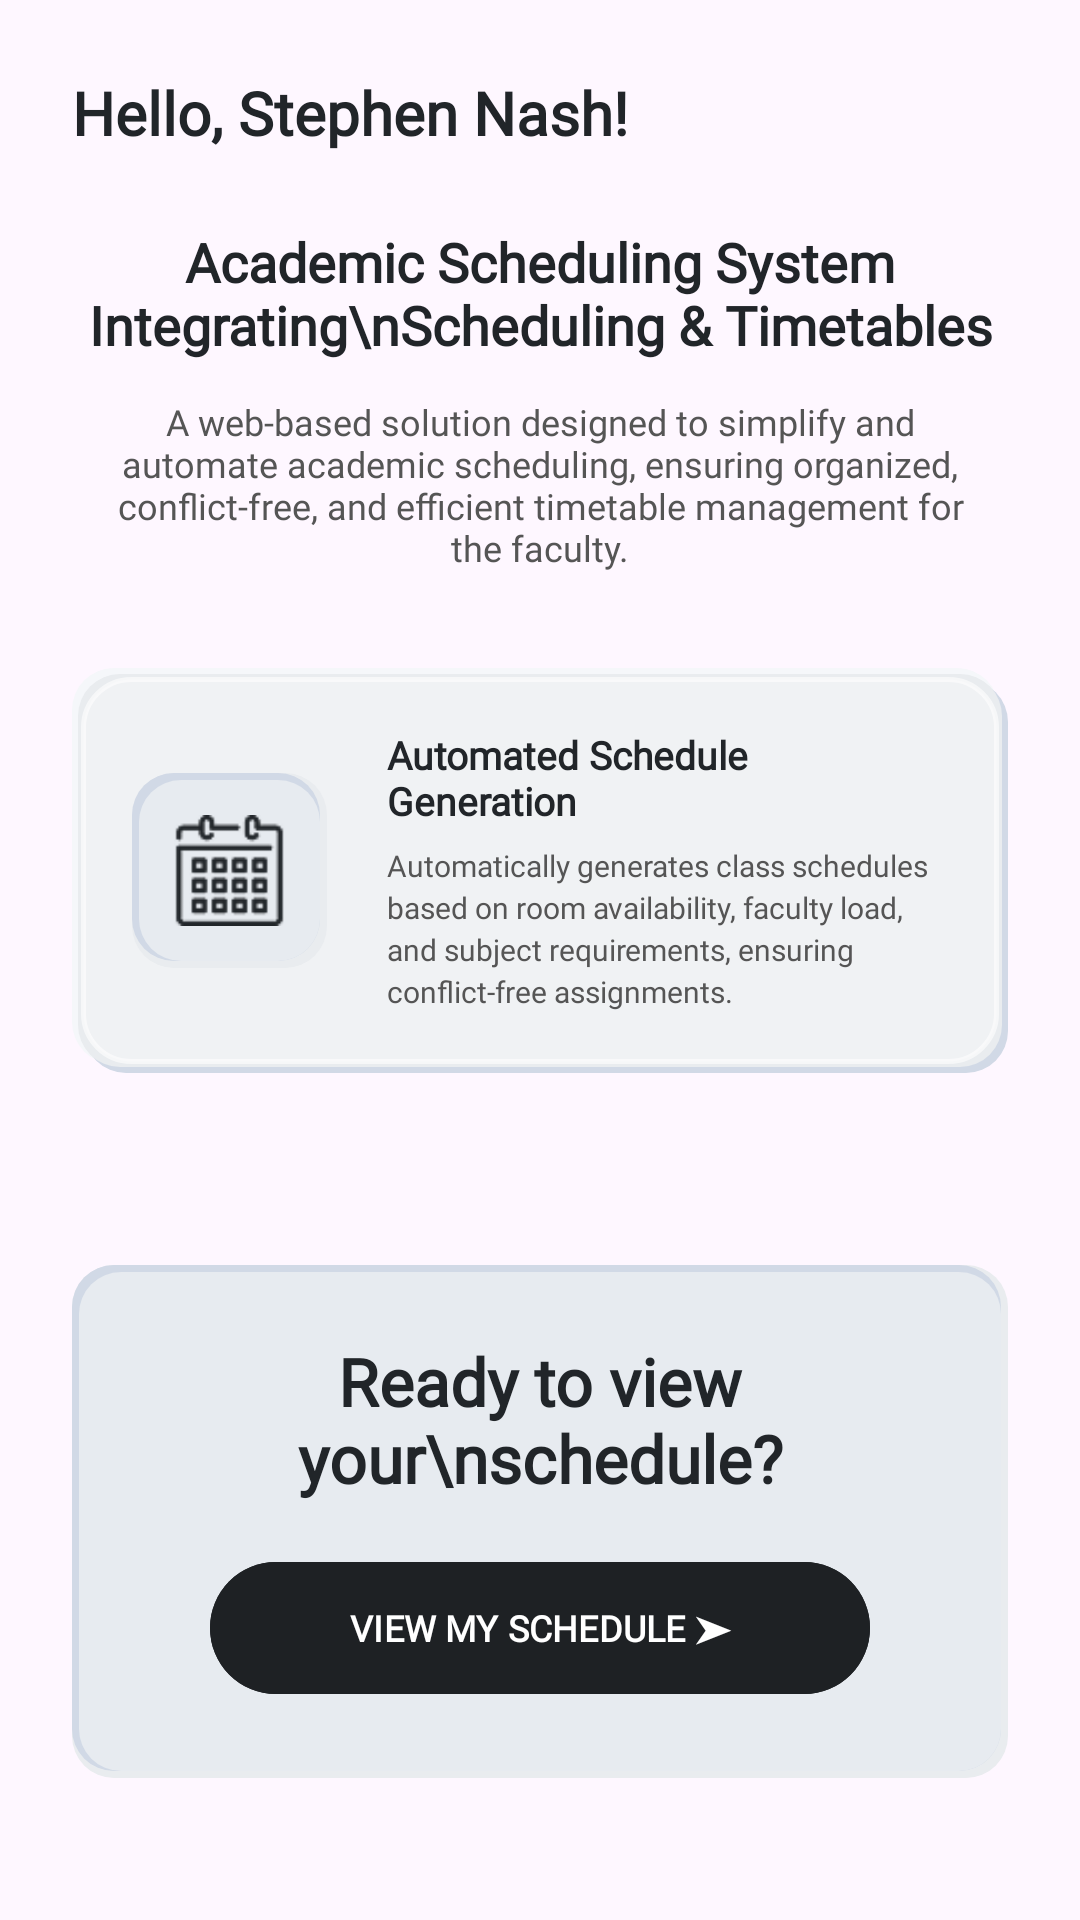

Where to tap for icons on this 1080px×1920px app screen, as (x,y):
staff schedule: (226,867)
